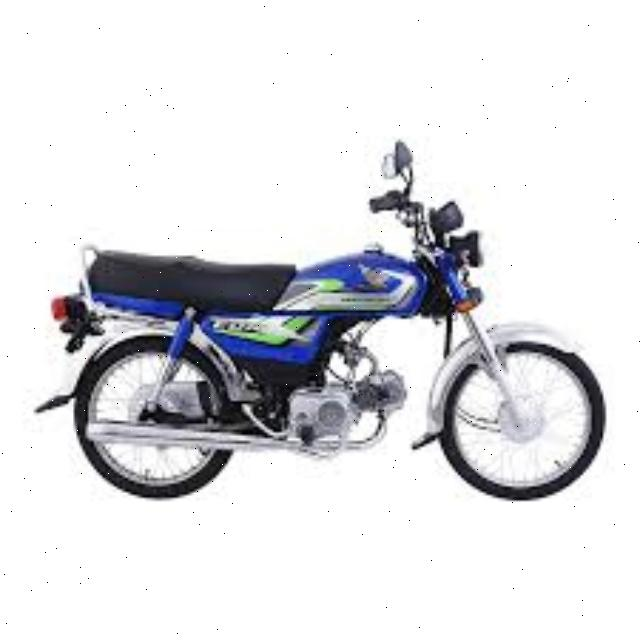Bike: (47, 159, 635, 543)
